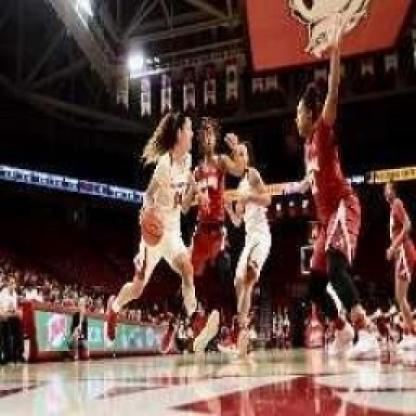basketball: (138, 205, 167, 243)
